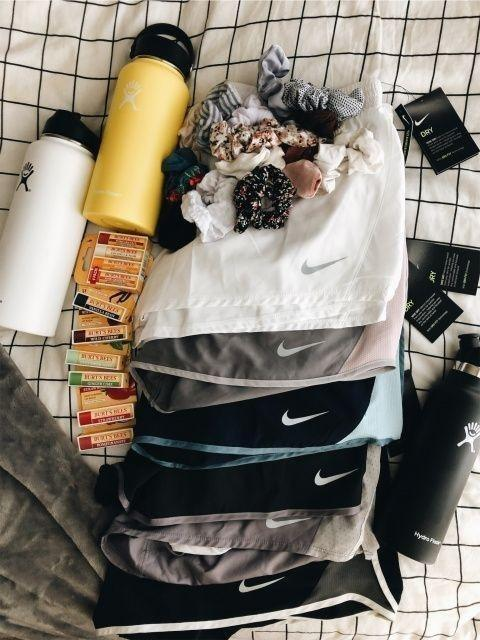gym bottle: (82, 24, 201, 236), (382, 334, 479, 564), (1, 110, 97, 337)
